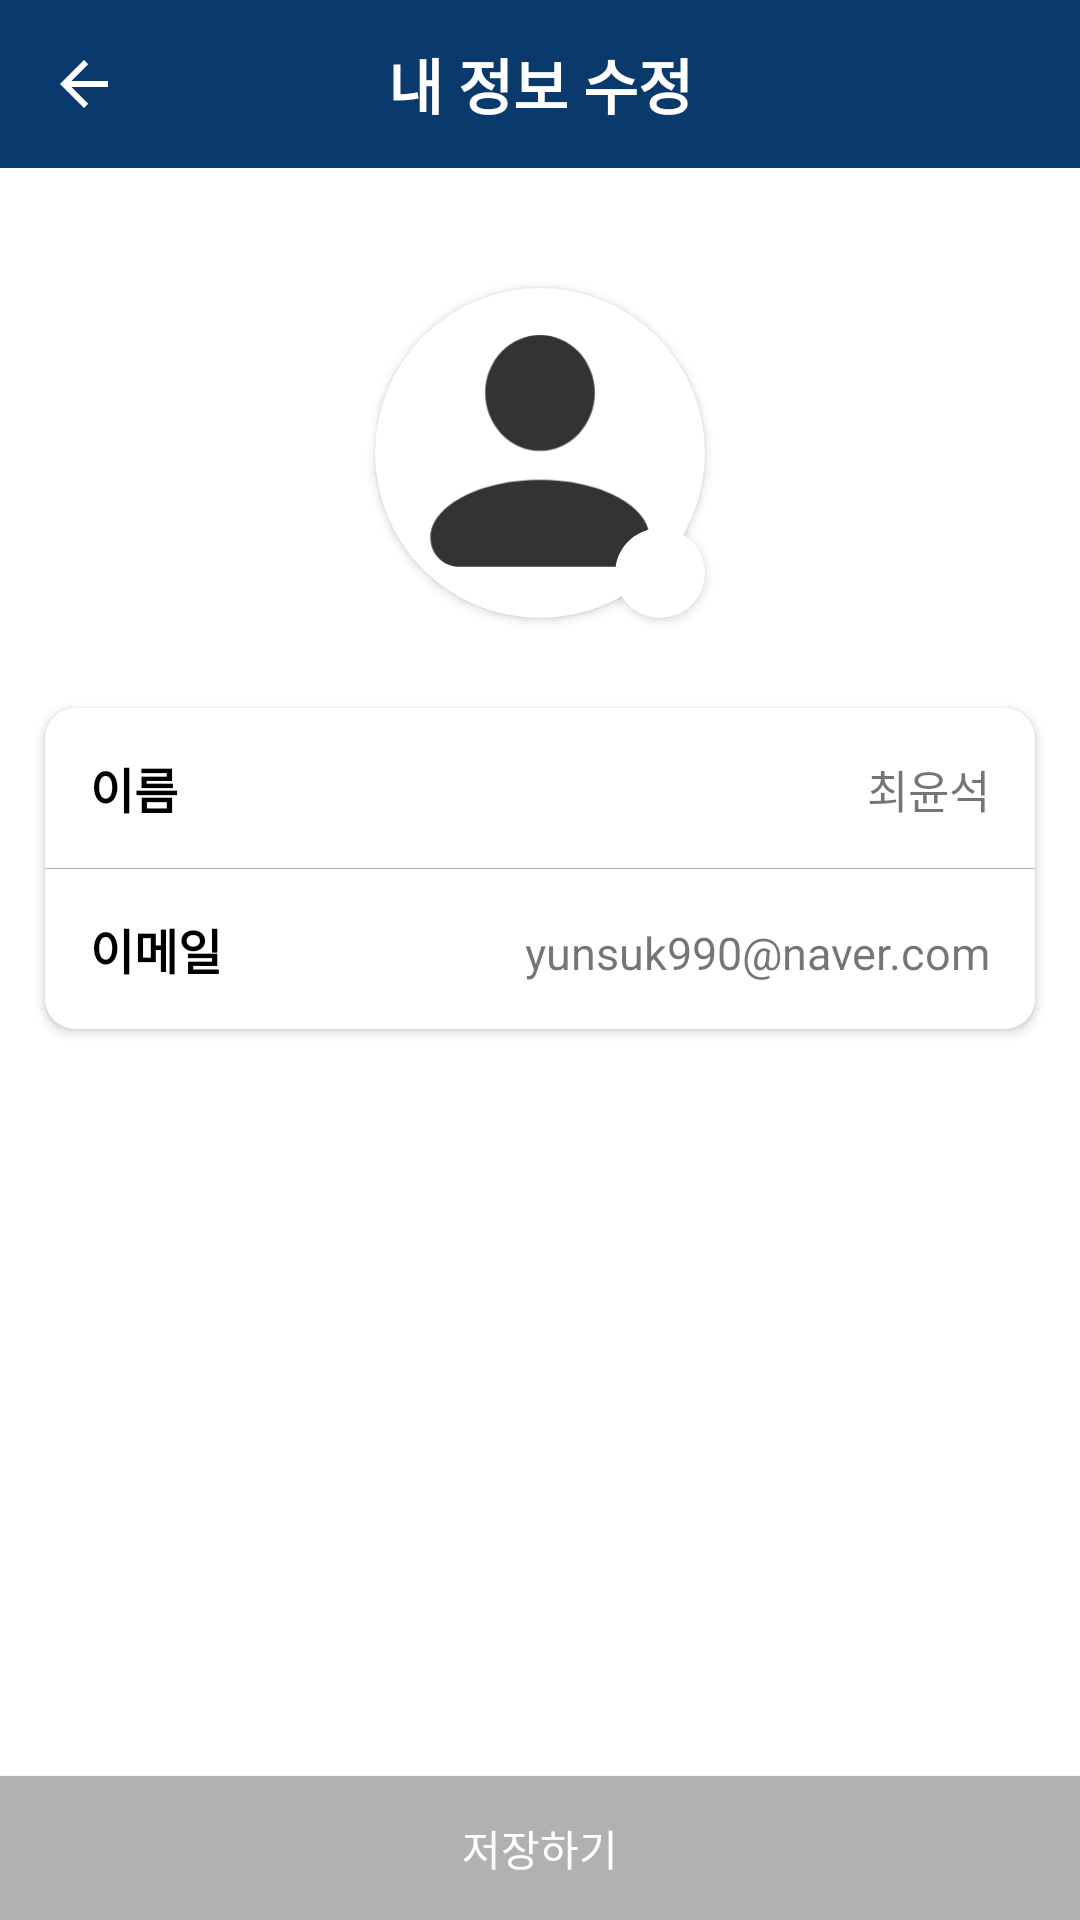

Icon click points for this 1080×1920 phone screenshot, format [x,y]:
user: [540,476]
